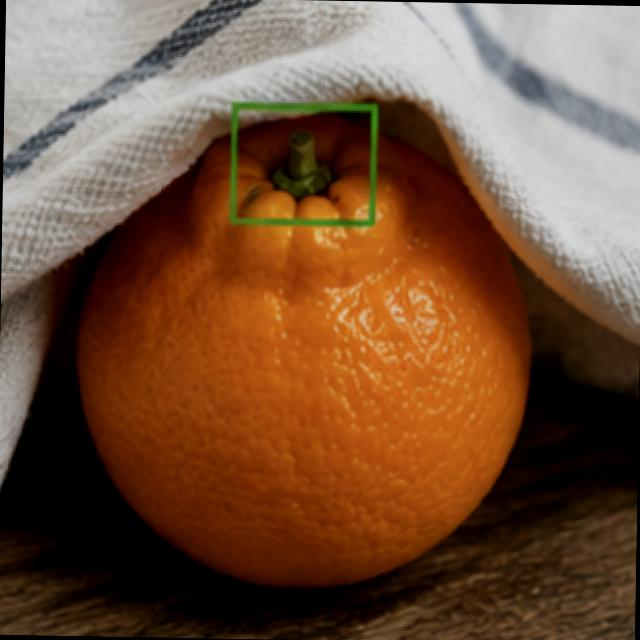Fruit-Stem-Detection: (242, 112, 358, 228)
